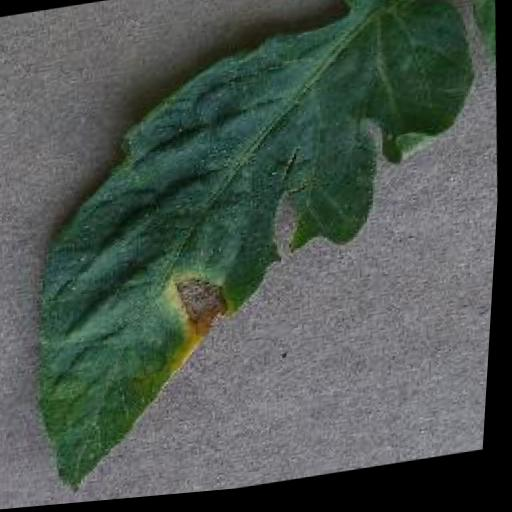Early Blight: (11, 2, 503, 499)
